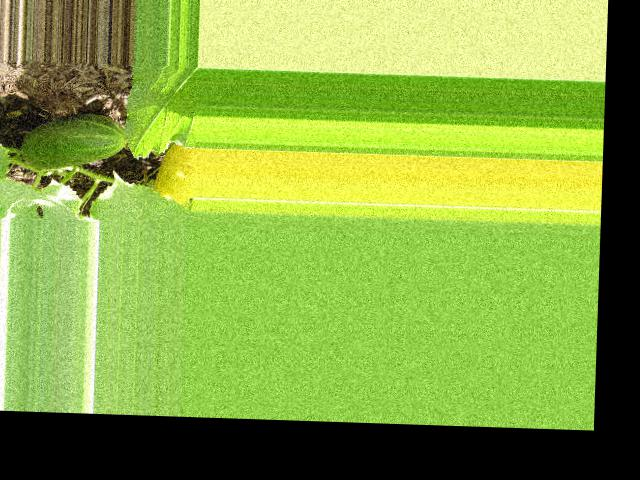cucumber: (19, 110, 127, 171)
